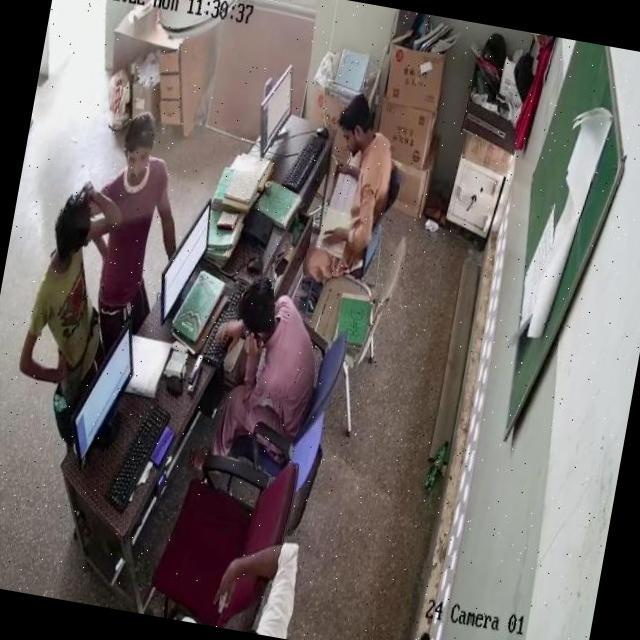person: (79, 124, 173, 338), (30, 200, 124, 388), (214, 282, 320, 407), (317, 97, 396, 253)
